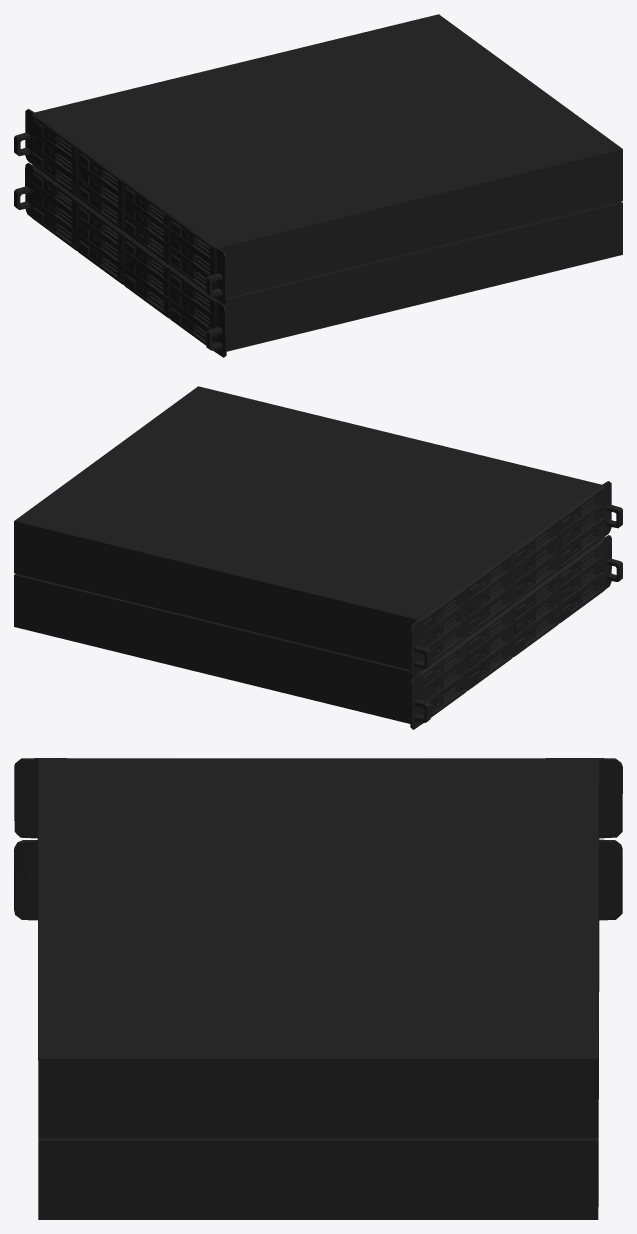
Rendered from Server.glb.
3 views of the same model, one above another, from view 1: azimuth 30°, elevation 25°; view 2: azimuth 150°, elevation 25°; view 3: azimuth 270°, elevation 25° (orthographic). The views are drawn at different scales.
Parts seen in each view (by area): view 1: Cube.1 2.007; view 2: Cube.1 2.007; view 3: Cube.1 2.007.
Part boxes in pixels (<box>): Cube.1 2.007: <box>14,14,622,357</box>; Cube.1 2.007: <box>14,386,622,729</box>; Cube.1 2.007: <box>14,758,622,1219</box>.
Size of the model in its own units: 2.9 by 0.7009 by 2.4.
Materials: 1 (1 with a texture image).
